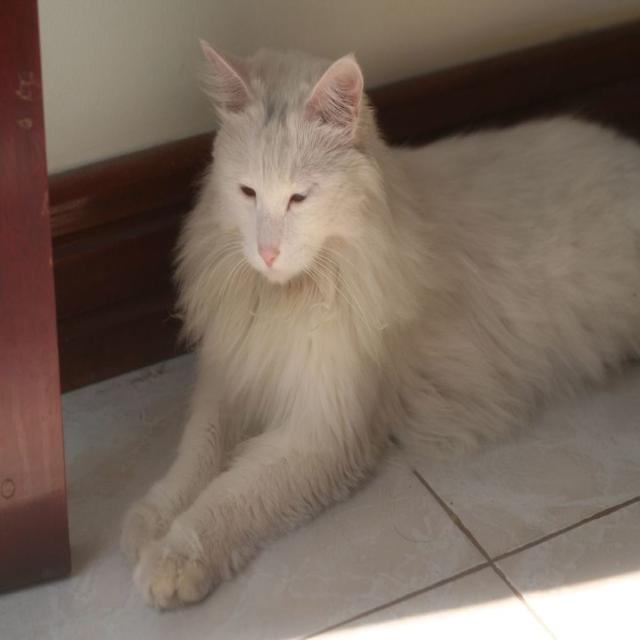Cat: (119, 33, 639, 615)
